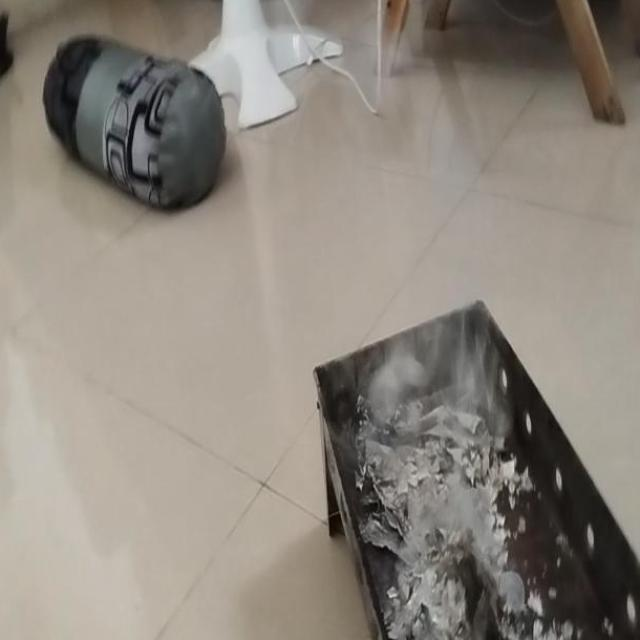fire: (374, 301, 504, 427)
